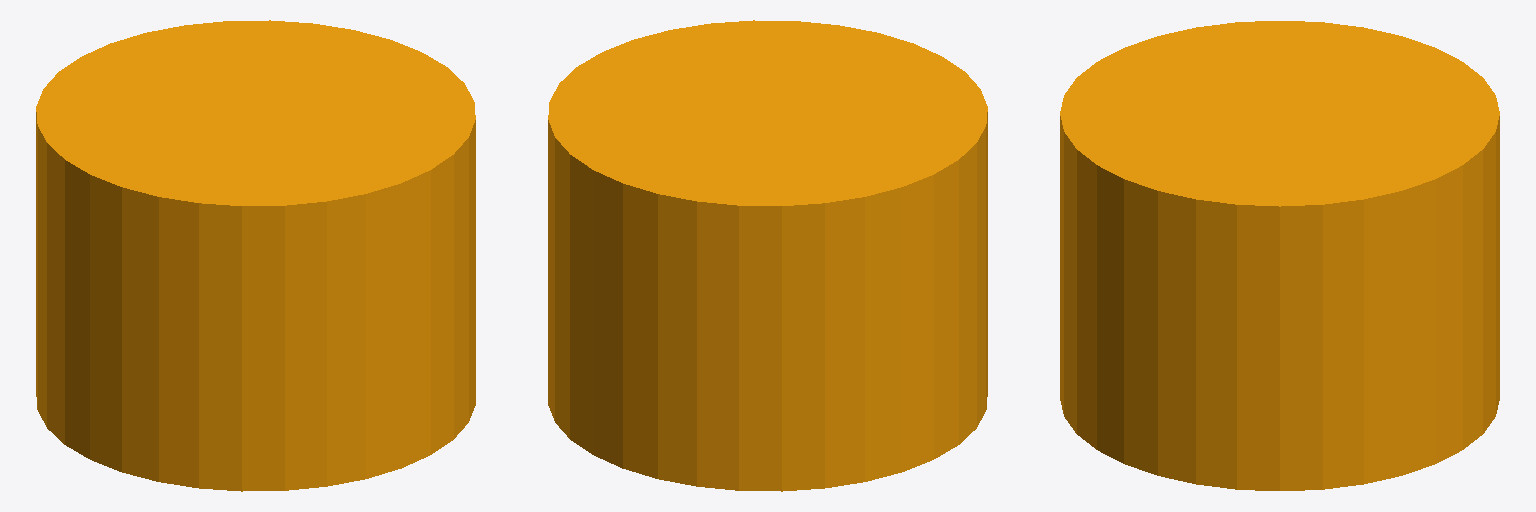
robot.urdf — disc:
<robot name="disc">
    <material name="orange">
        <color rgba="1 0.674 0.078 1.0" />
    </material>
    <link name="base_link">
        <contact>
            <lateral_friction value="1.0" />
            <rolling_friction value="0.001" />
            <contact_cfm value="0.0" />
            <contact_erp value="1.0" />
        </contact>
        <inertial>
            <origin rpy="0 0 0" xyz="0.0 0.0 0.0" />
            <mass value=".1" />
            <inertia ixx="1" ixy="0" ixz="0" iyy="1" iyz="0" izz="1" />
        </inertial>
        <visual>
            <origin rpy="0 0 0" xyz="0 0 0" />
            <geometry>
                <cylinder length="0.005" radius="0.0035" />
            </geometry>
            <material name="orange" />
        </visual>
        <collision>
            <origin rpy="0 0 0" xyz="0 0 0" />
            <geometry>
                <cylinder length="0.005" radius="0.0035" />
            </geometry>
        </collision>
    </link>
</robot>

--- Facts derived from the render (not from the file) ---
The picture shows the robot from 3 angles, left to right: view 1: azimuth 30°, elevation 25°; view 2: azimuth 150°, elevation 25°; view 3: azimuth 270°, elevation 25°; orthographic projection.
Model disc with 1 links and 0 joints (none), rooted at base_link, posed all joints at 0.
Links seen in each view (by area): view 1: base_link; view 2: base_link; view 3: base_link.
Boxes of the visible links, x1=… form: base_link: x1=36, y1=20, x2=475, y2=491; base_link: x1=548, y1=20, x2=987, y2=491; base_link: x1=1060, y1=21, x2=1499, y2=490.
Bounding box of the posed robot: 0.007 × 0.007 × 0.005 m (x, y, z).
Geometry: primitives only (box / cylinder / sphere), no mesh files.